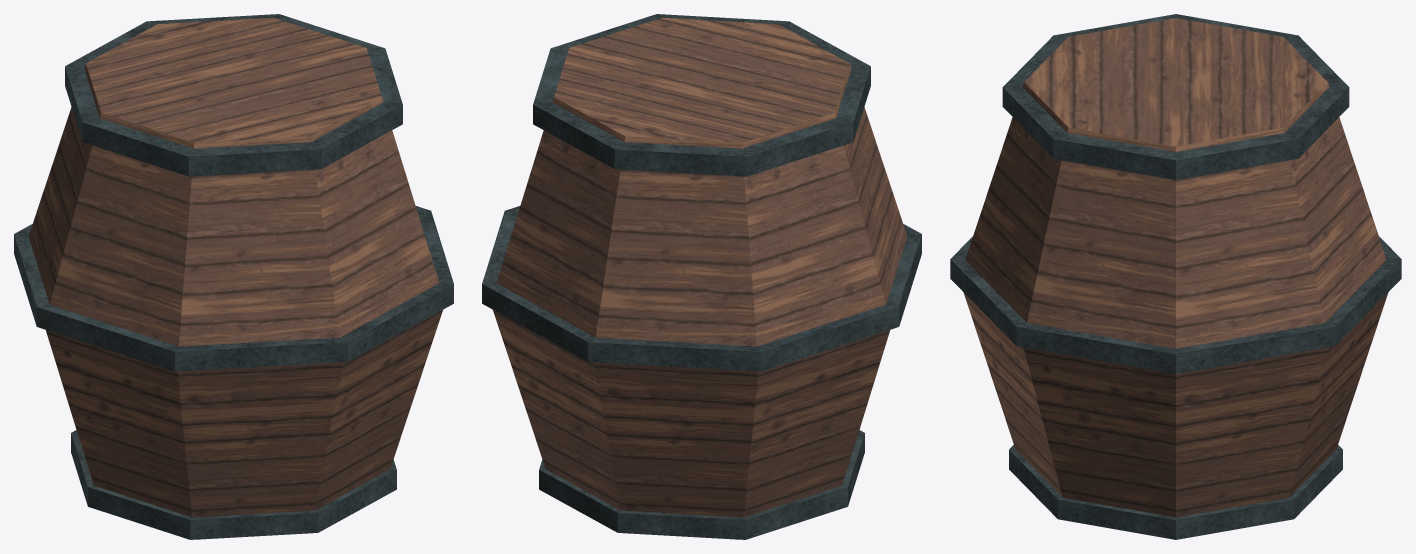
The model's file is Barril_Basico.fbx.
The picture shows the model from 3 angles, left to right: view 1: azimuth 30°, elevation 25°; view 2: azimuth 150°, elevation 25°; view 3: azimuth 270°, elevation 25°; orthographic projection.
Parts seen in each view (by area): view 1: Barril; view 2: Barril; view 3: Barril.
Boxes of the visible parts, x1,y1,x2,y2 form: Barril: (14,14,453,539); Barril: (482,14,921,539); Barril: (950,14,1401,539).
Bounding box in the file's own units: 104 × 100 × 104.
Materials: 2 (2 with a texture image).
